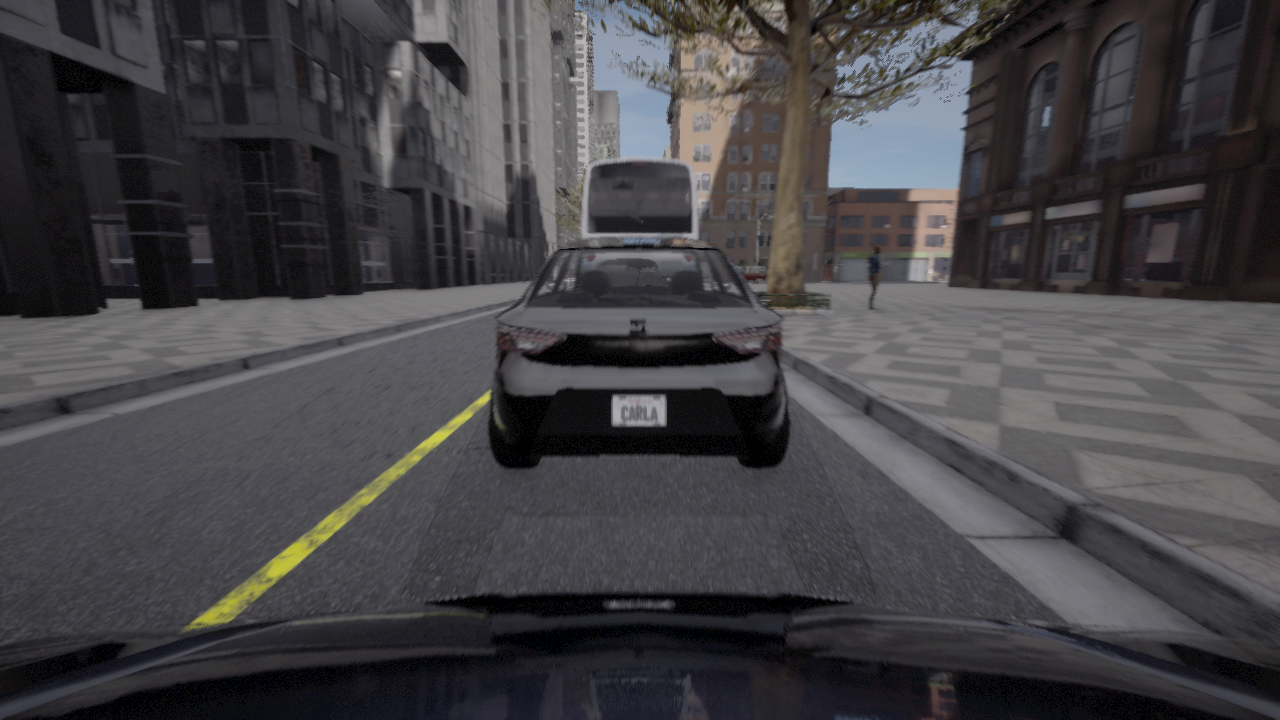cyclist: (0, 588, 1279, 719), (489, 237, 789, 467), (582, 157, 698, 239), (736, 266, 766, 282)
pedestrian: (868, 245, 881, 309)
